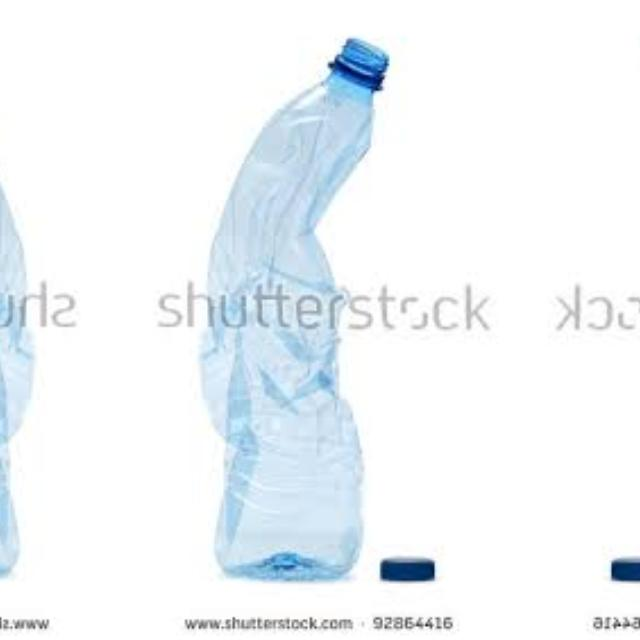Plastic: (186, 26, 412, 594), (0, 26, 45, 593), (633, 26, 640, 593)
